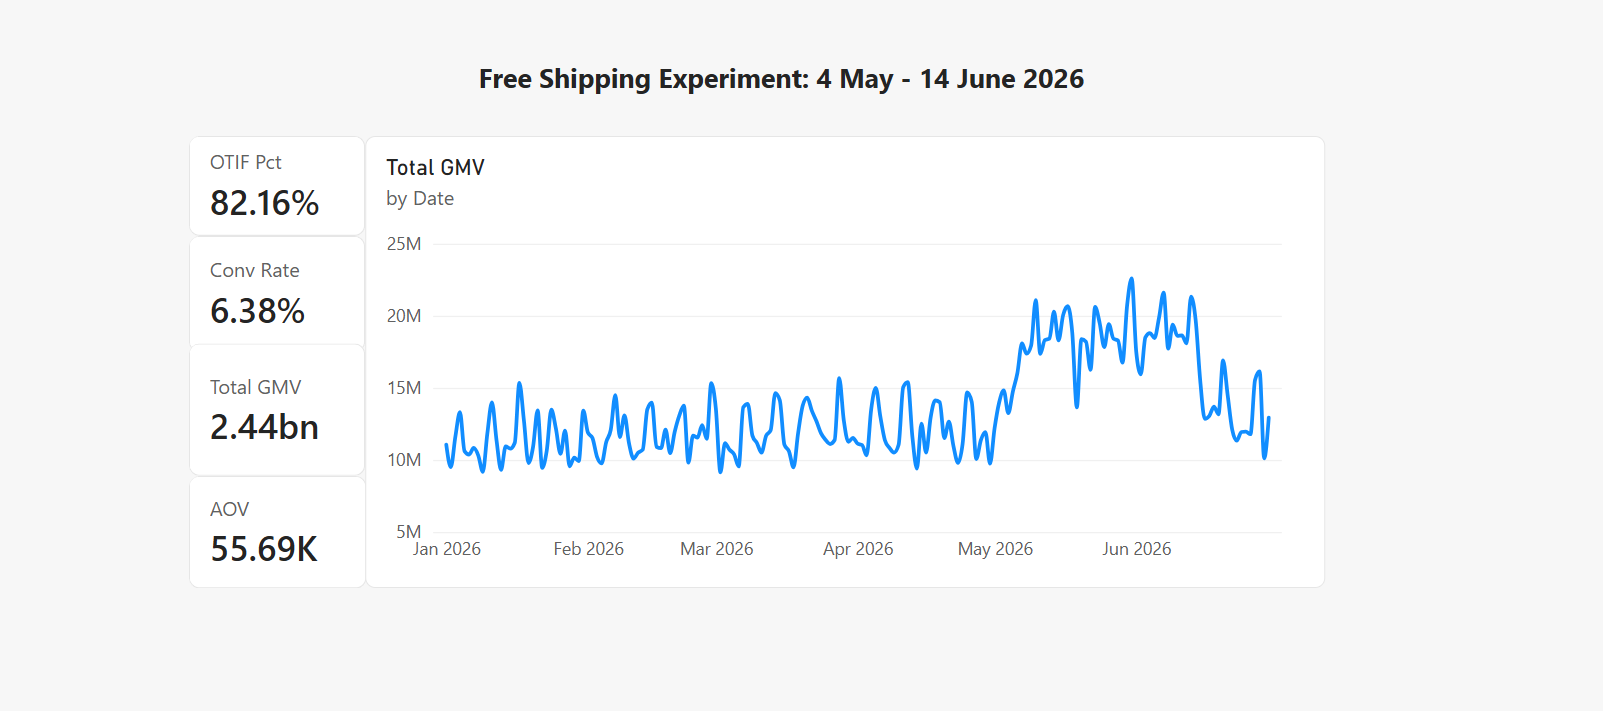

What the dashboard file says about the page in this screenshot:
{"tool":"powerbi","page":{"name":"Executive Summary","canvas":[1920,1080],"ordinal":0},"visuals":[{"type":"cardVisual","fields":{"Data":["fct_ab_users.Conv Rate"]},"box":[228,200,141,93],"z":0},{"type":"cardVisual","fields":{"Data":["fct_otif_shipments.OTIF Pct"]},"box":[228,120,141,80],"z":1000},{"type":"cardVisual","fields":{"Data":["fct_orders.AOV"]},"box":[228,392,142,90],"z":2000},{"type":"cardVisual","fields":{"Data":["fct_orders.Total GMV"]},"box":[228,286,141,106],"z":3000},{"type":"lineChart","fields":{"Category":["Calendar.Date"],"Y":["fct_orders.Total GMV"]},"box":[369,120,768,362],"z":4000},{"type":"textbox","box":[460,58,611,34],"z":5000}]}

Visuals, with their boxes on the page's 1920x1080 design canvas (x1, y1, x2, y2). These are canvas units, not pixel positions in the 1603x711 screenshot, which may show the page scaled, cropped or inside an application window:
cardVisual - fct_ab_users.Conv Rate: [left=228, top=200, right=369, bottom=293]
cardVisual - fct_otif_shipments.OTIF Pct: [left=228, top=120, right=369, bottom=200]
cardVisual - fct_orders.AOV: [left=228, top=392, right=370, bottom=482]
cardVisual - fct_orders.Total GMV: [left=228, top=286, right=369, bottom=392]
lineChart - Calendar.Date x fct_orders.Total GMV: [left=369, top=120, right=1137, bottom=482]
textbox: [left=460, top=58, right=1071, bottom=92]
